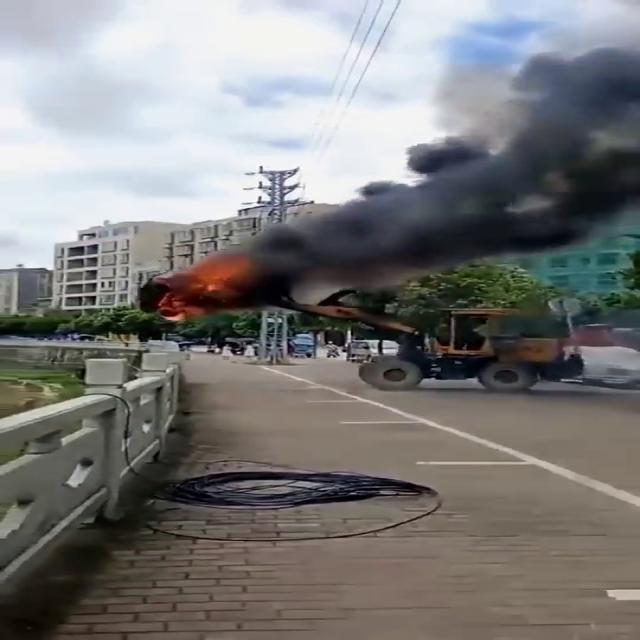Fire: (160, 264, 264, 324)
Smoke: (274, 48, 640, 294)
